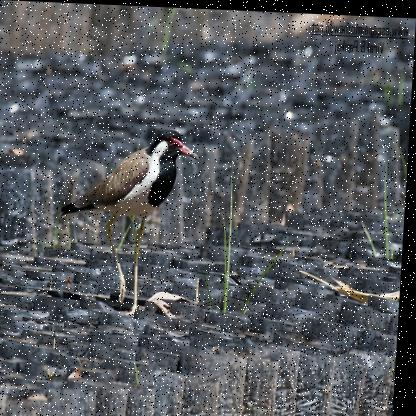Burung: (58, 123, 204, 317)
